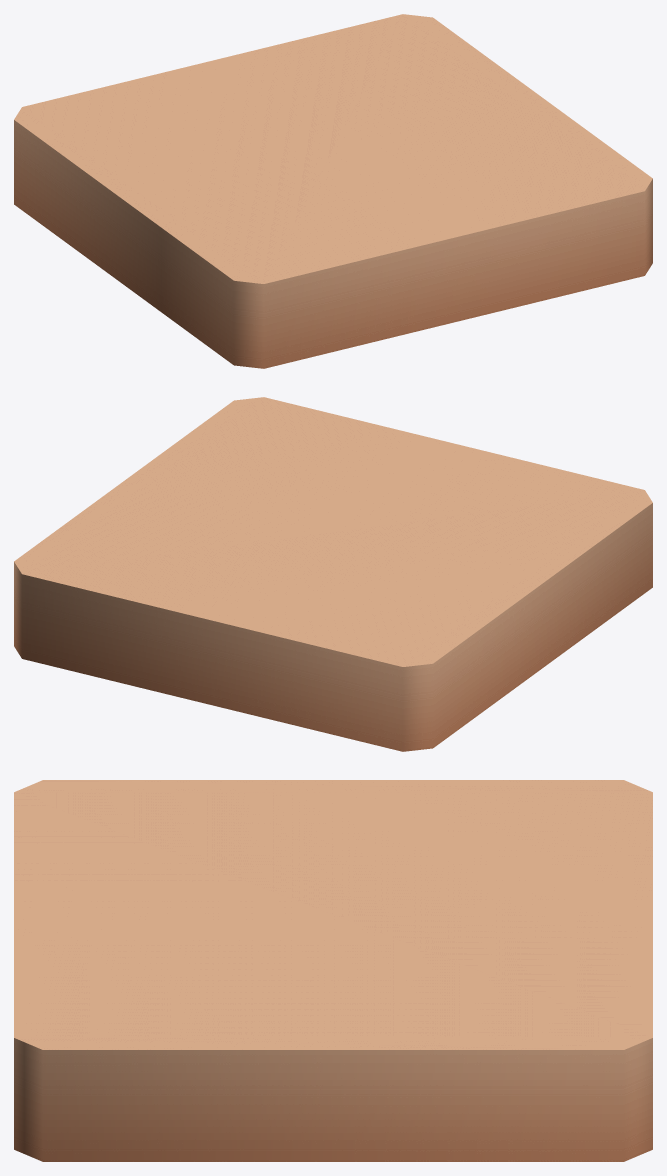
File: roof-flat-top.glb
3 renders of one model, top to bottom at view 1: azimuth 30°, elevation 25°; view 2: azimuth 150°, elevation 25°; view 3: azimuth 270°, elevation 25°, orthographic. The views are drawn at different scales.
Visible parts, largest first — view 1: roof-flat-top; view 2: roof-flat-top; view 3: roof-flat-top.
Part boxes in pixels (x1,y1,x2,y2): roof-flat-top: (14, 14, 652, 368); roof-flat-top: (14, 397, 652, 751); roof-flat-top: (14, 780, 652, 1161).
Bounding box in the file's own units: 1.1 × 0.2125 × 1.1.
Materials: 1 (1 with a texture image).
